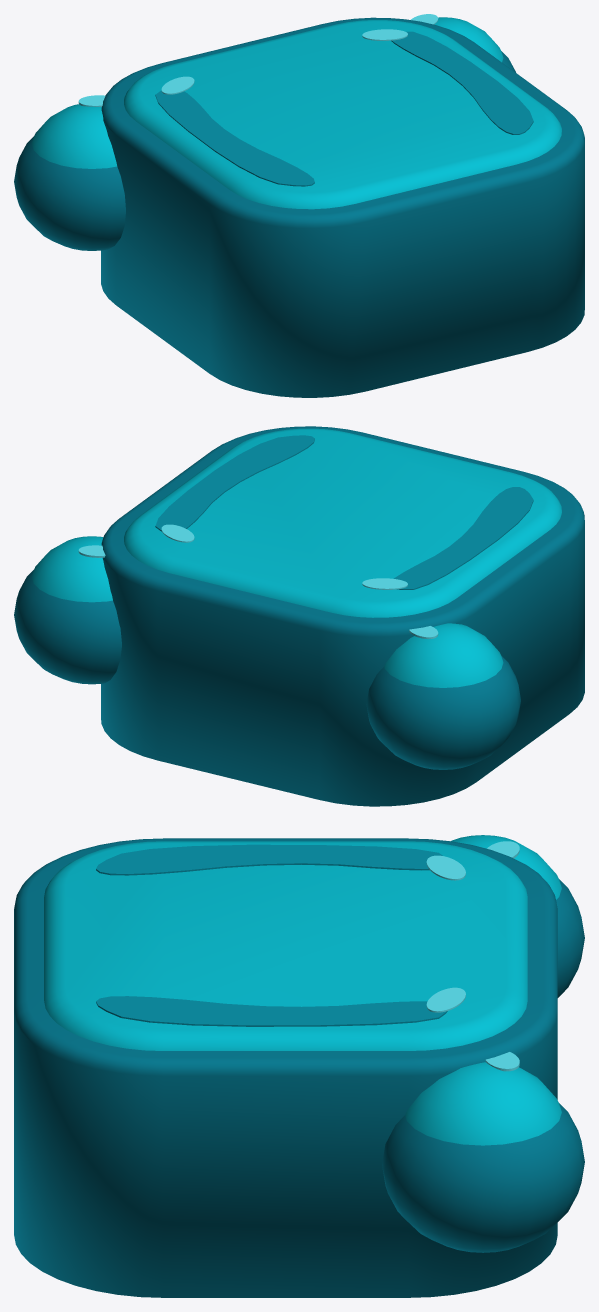
Rendered from body_basico_ciano.fbx.
3 renders of one model, top to bottom at view 1: azimuth 30°, elevation 25°; view 2: azimuth 150°, elevation 25°; view 3: azimuth 270°, elevation 25°, orthographic. The views are drawn at different scales.
Visible parts, largest first — view 1: body_basico_ciano_corpo, body_basico_ciano_mao_esq, body_basico_ciano_mao; view 2: body_basico_ciano_corpo, body_basico_ciano_mao_esq, body_basico_ciano_mao; view 3: body_basico_ciano_corpo, body_basico_ciano_mao, body_basico_ciano_mao_esq.
Boxes of the visible parts, left/top/right/bottom form: body_basico_ciano_corpo: left=101, top=17, right=584, bottom=397; body_basico_ciano_mao_esq: left=14, top=95, right=125, bottom=250; body_basico_ciano_mao: left=411, top=14, right=515, bottom=72; body_basico_ciano_corpo: left=101, top=426, right=584, bottom=806; body_basico_ciano_mao_esq: left=366, top=623, right=520, bottom=769; body_basico_ciano_mao: left=14, top=536, right=121, bottom=684; body_basico_ciano_corpo: left=14, top=838, right=557, bottom=1297; body_basico_ciano_mao: left=382, top=1052, right=584, bottom=1252; body_basico_ciano_mao_esq: left=451, top=835, right=584, bottom=997.
Size of the model in its own units: 5.4 by 2.03 by 4.2.
Materials: 1 (1 with a texture image).
